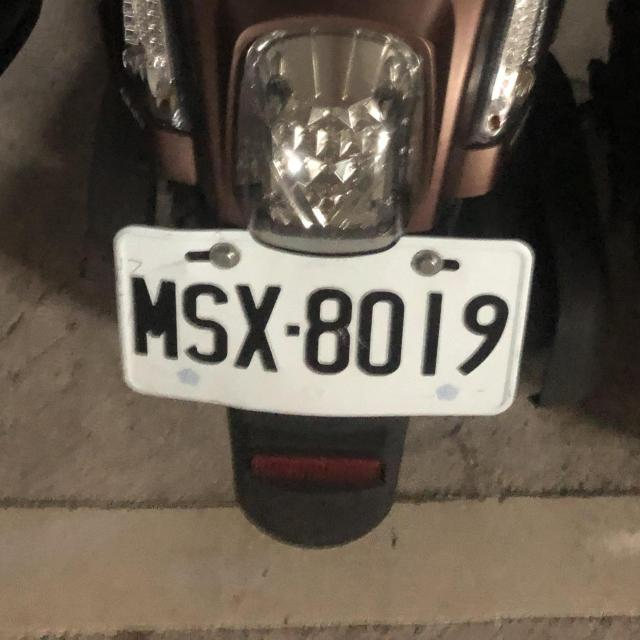W: (99, 205, 538, 438)
